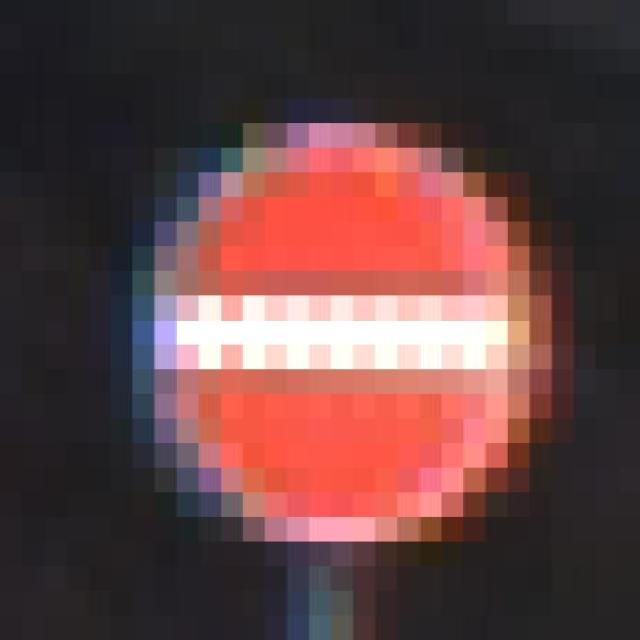No Entry: (110, 99, 596, 566)
